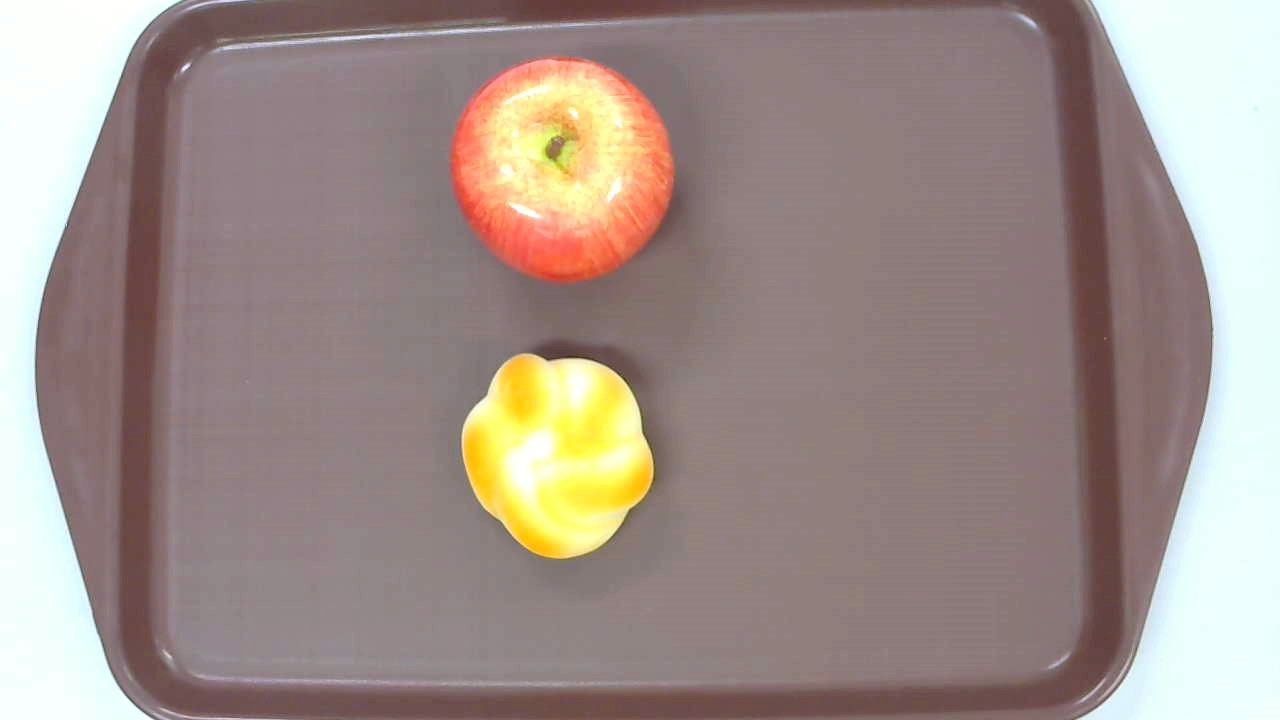red apple: (449, 55, 674, 281)
twist bread: (459, 352, 656, 560)
